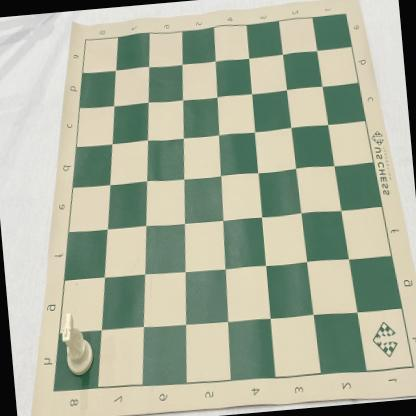white-knight: (60, 311, 96, 378)
